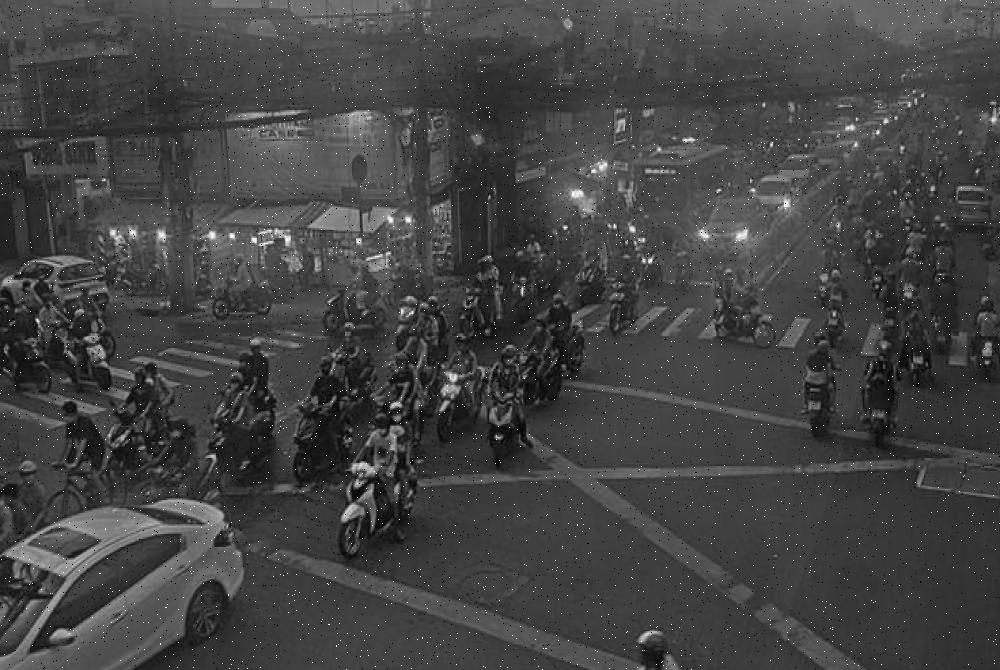car: (0, 500, 249, 670), (951, 187, 993, 222)
motorbike: (335, 456, 425, 562)
